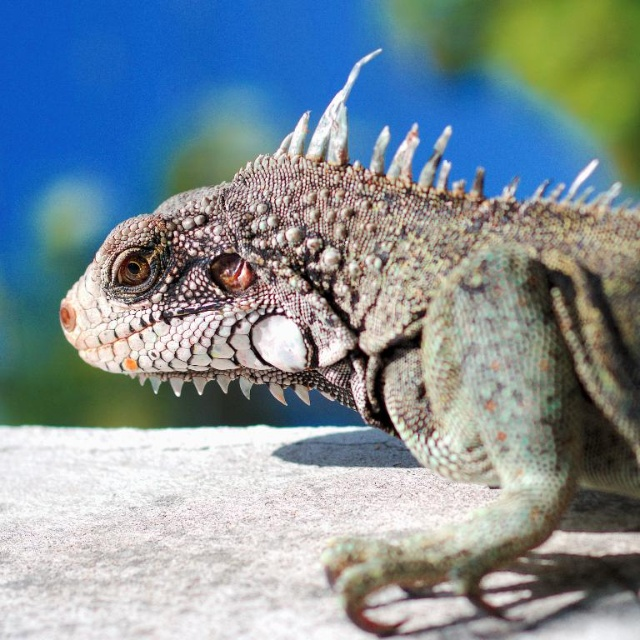Lizard: (59, 48, 640, 634)
